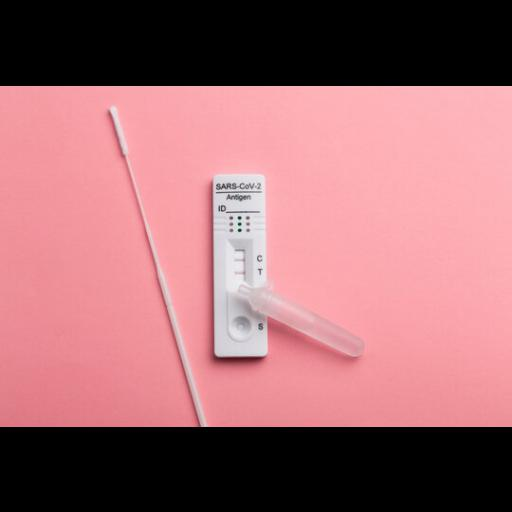Pos: (212, 174, 264, 356)
